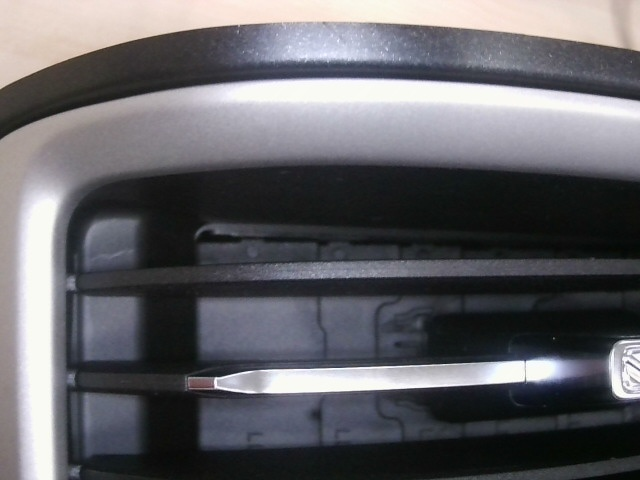NG: (307, 13, 374, 75)
